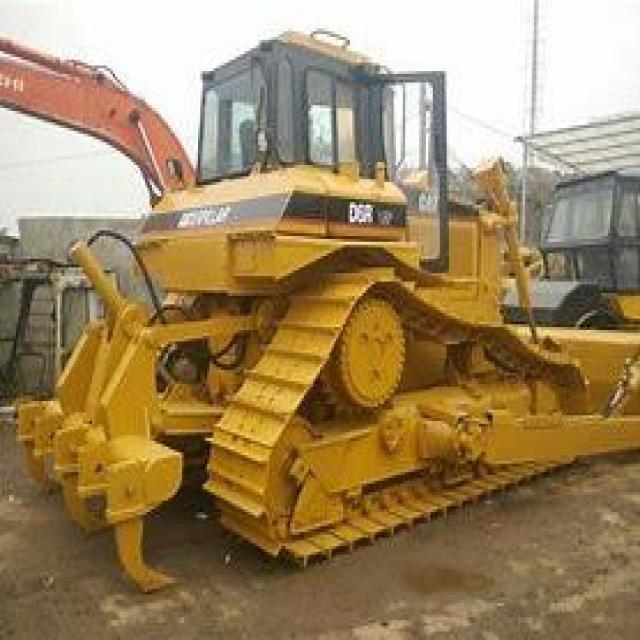buldozerpayloadergrader: (28, 20, 638, 592)
